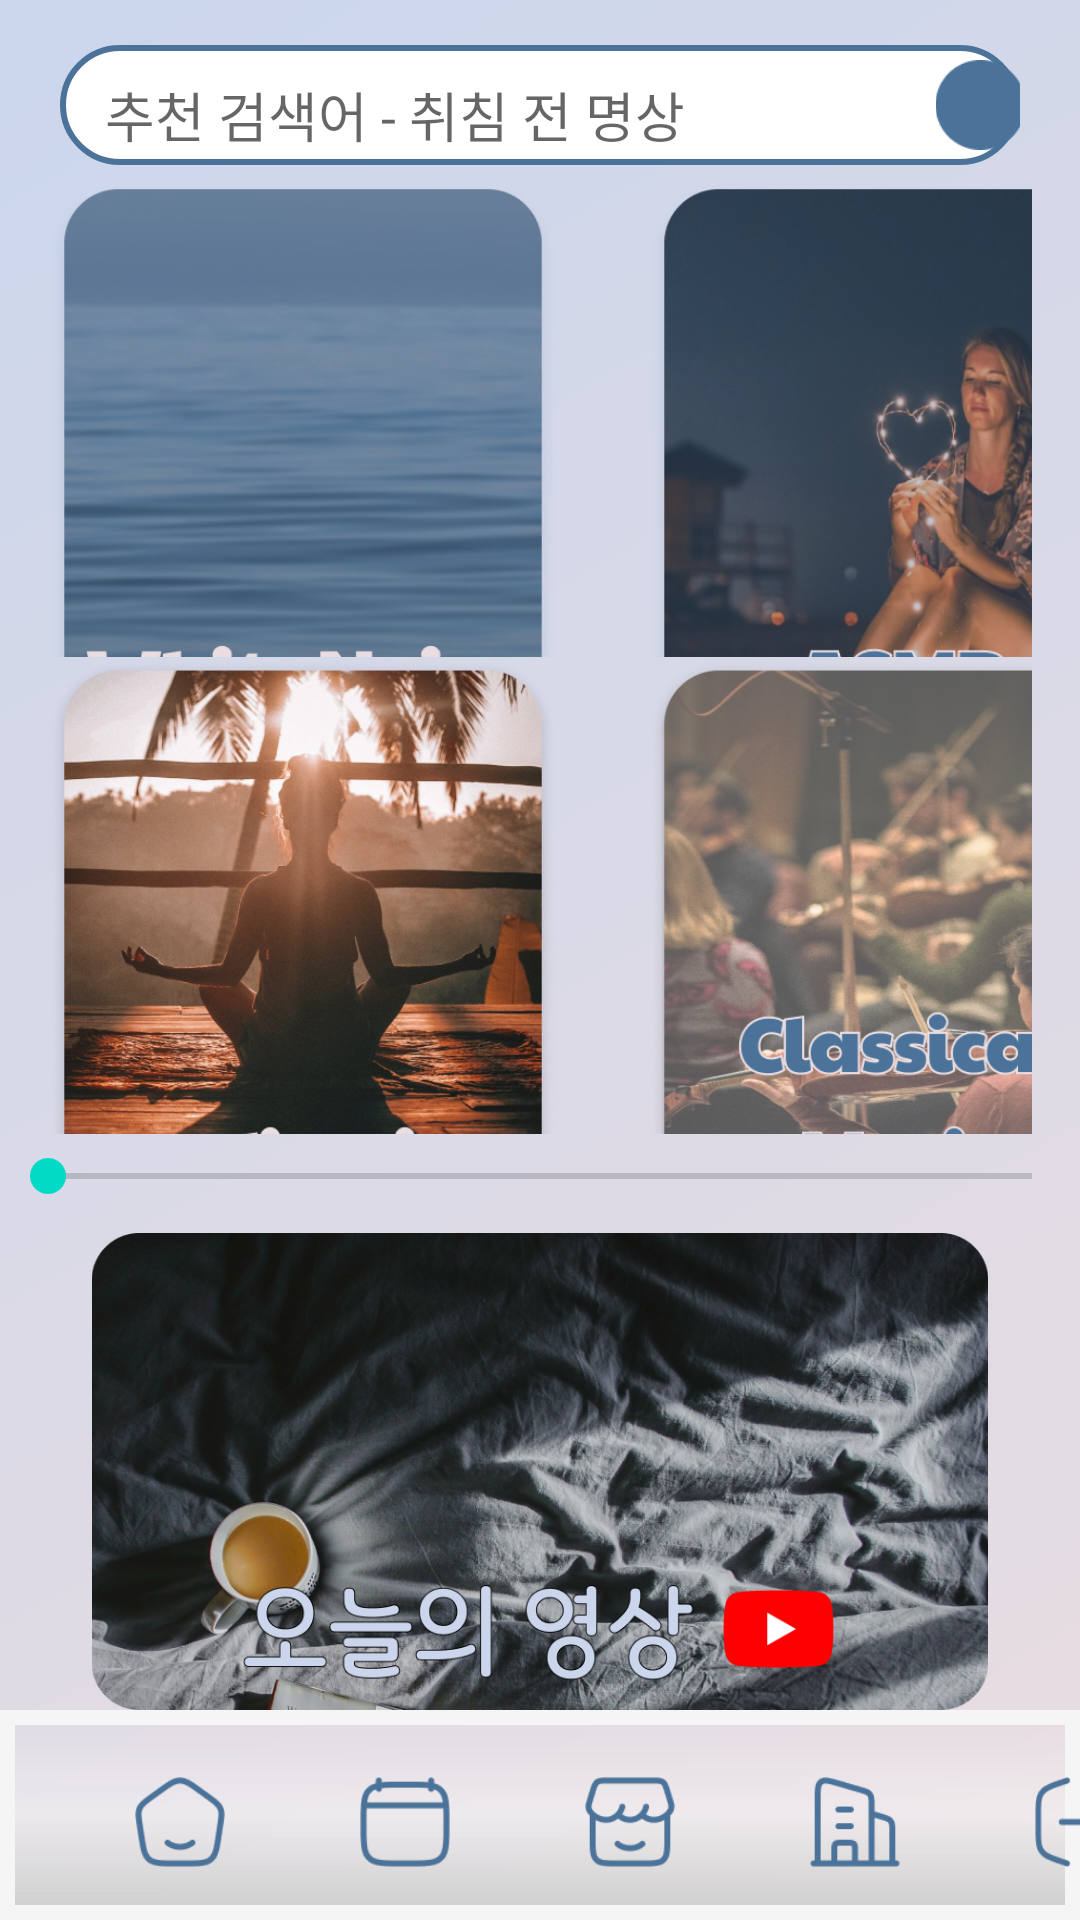

Where icons sit on this 1080×1920 app screen, as box(x1, y1, x2, y2):
building: box(810, 1777, 900, 1867)
calendar: box(360, 1777, 450, 1867)
home: box(135, 1777, 225, 1867)
store: box(585, 1777, 675, 1867)
